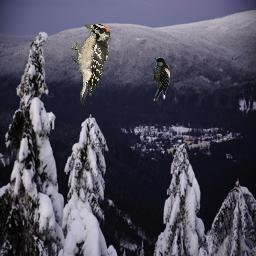Woodpecker: (71, 24, 111, 106), (153, 57, 170, 101)
